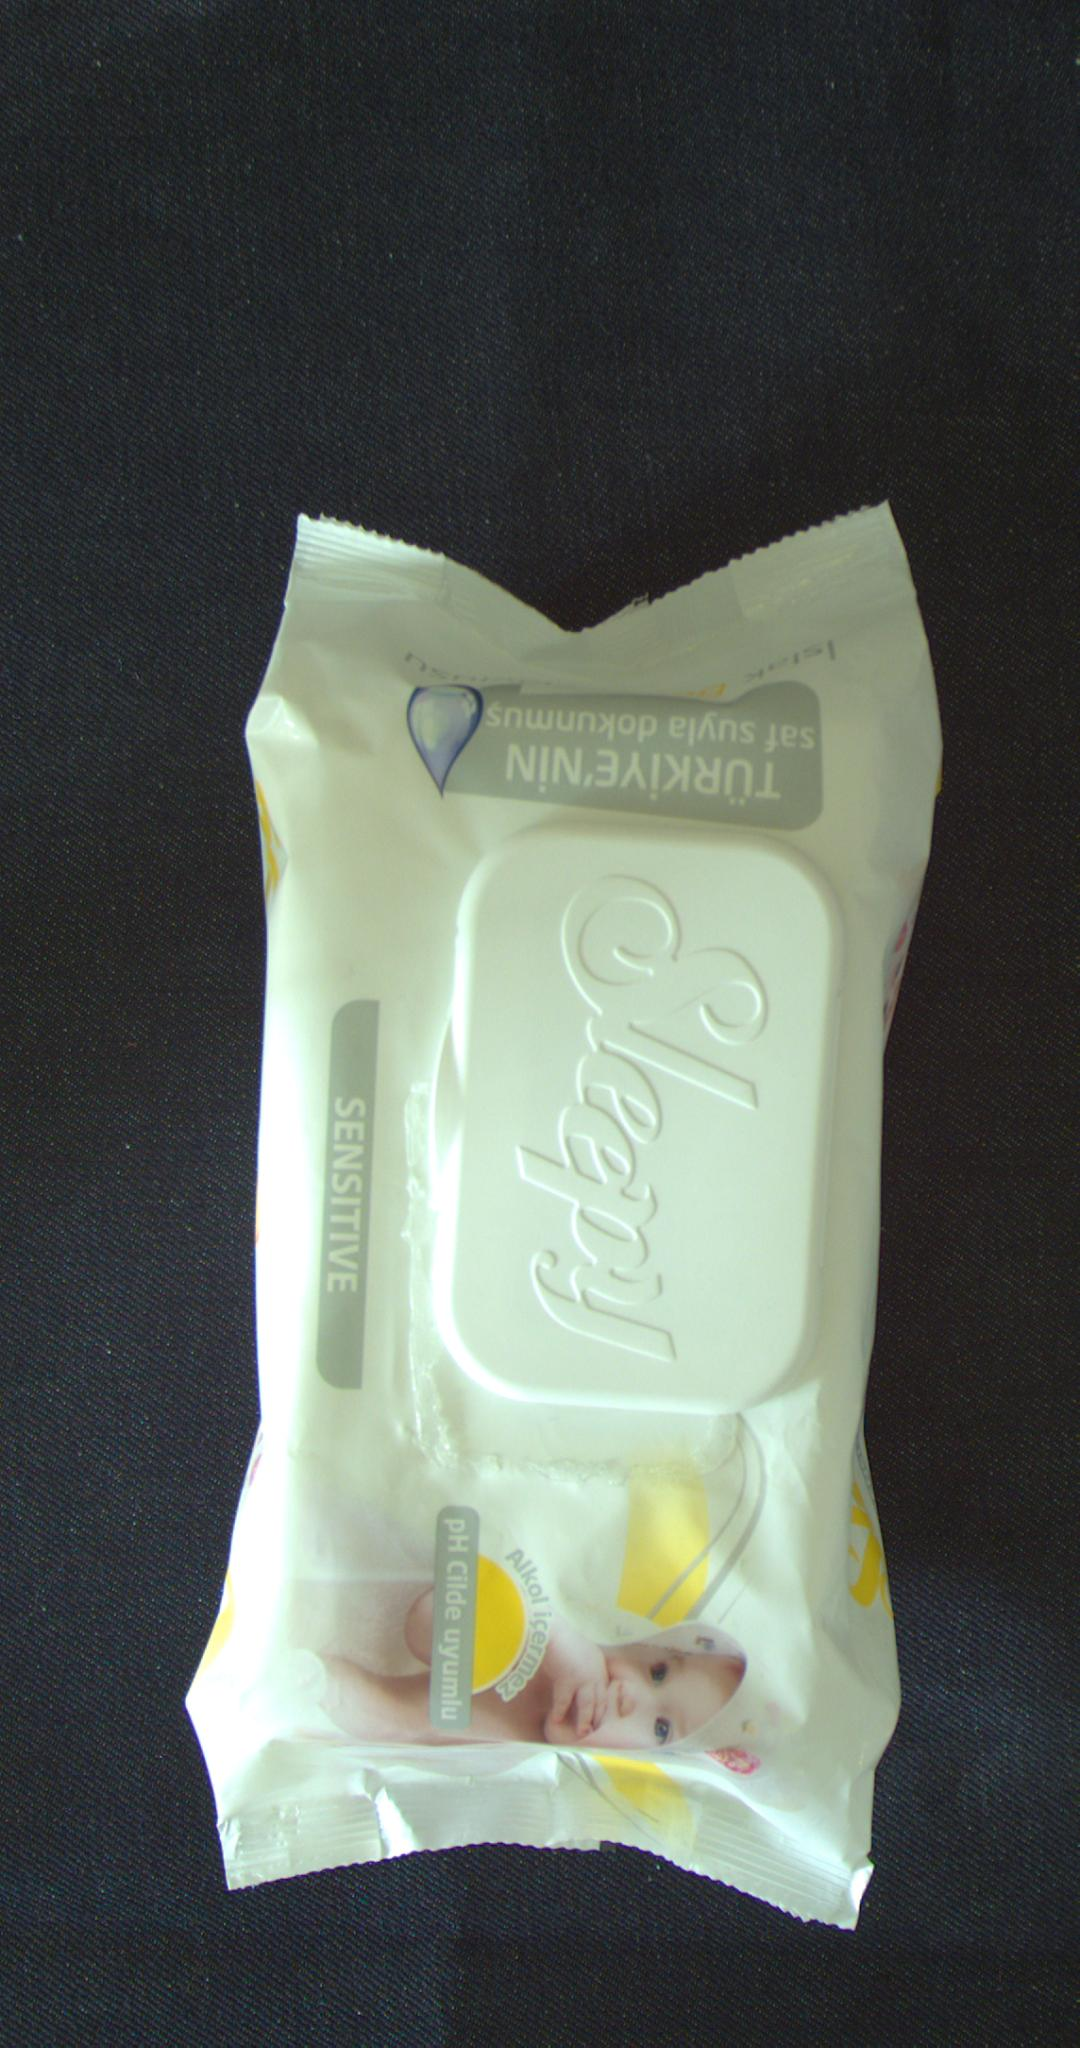kapak: (427, 819, 835, 1398)
